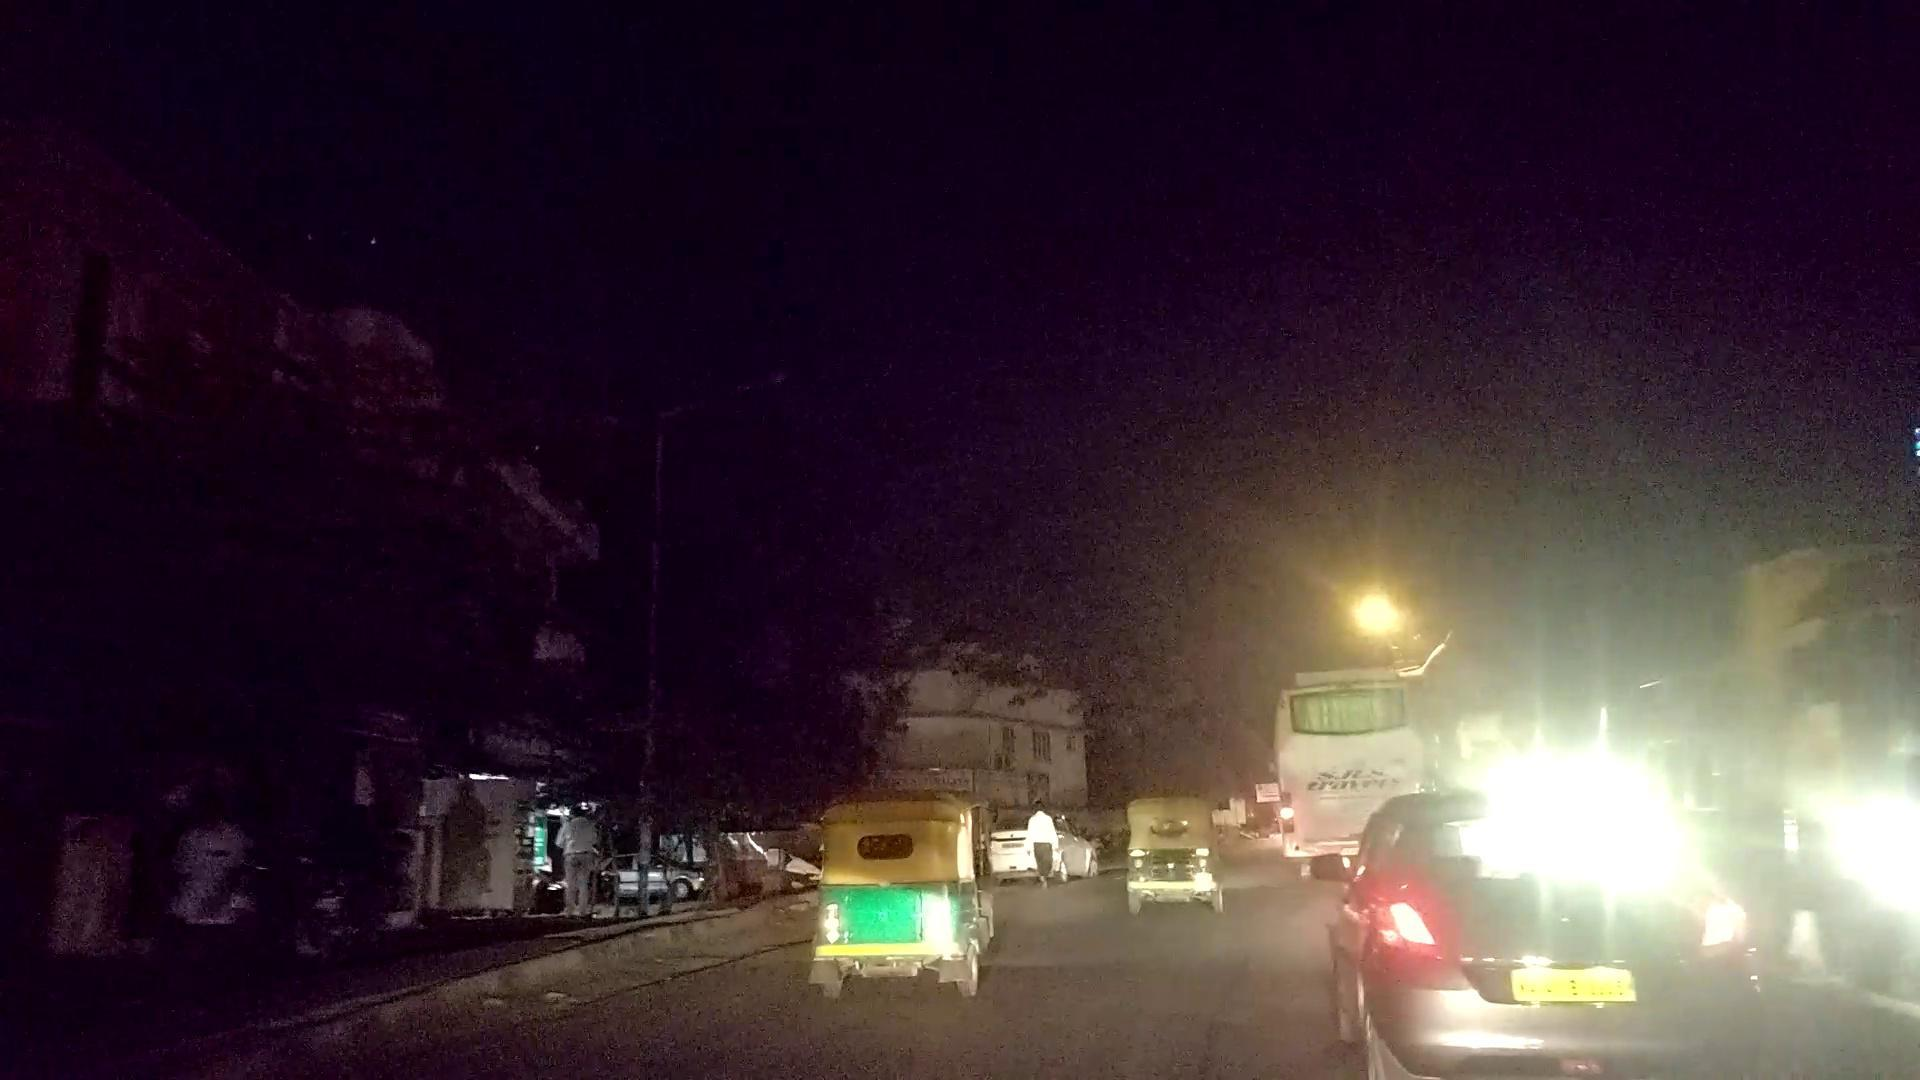on: (1110, 402, 1838, 1067)
